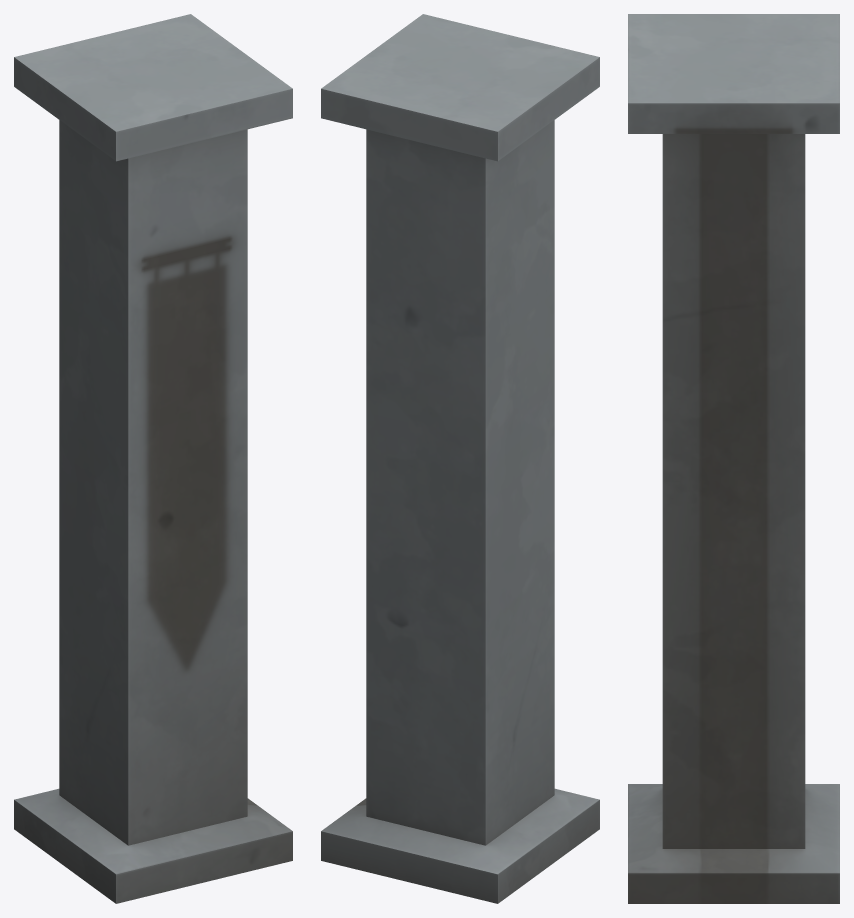
The model's file is dungeon_UV_Cube_006.FBX.
The picture shows the model from 3 angles, left to right: view 1: azimuth 30°, elevation 25°; view 2: azimuth 150°, elevation 25°; view 3: azimuth 270°, elevation 25°; orthographic projection. The views are drawn at different scales.
Parts seen in each view (by area): view 1: dungeon_UV_Cube_006; view 2: dungeon_UV_Cube_006; view 3: dungeon_UV_Cube_006.
Boxes of the visible parts, bbox=[...] form: dungeon_UV_Cube_006: bbox=[14, 14, 292, 903]; dungeon_UV_Cube_006: bbox=[321, 14, 599, 903]; dungeon_UV_Cube_006: bbox=[628, 14, 839, 903].
Size of what is drawn, in the model's own units: 156 by 156 by 652.
Materials: 1 (1 with a texture image).
